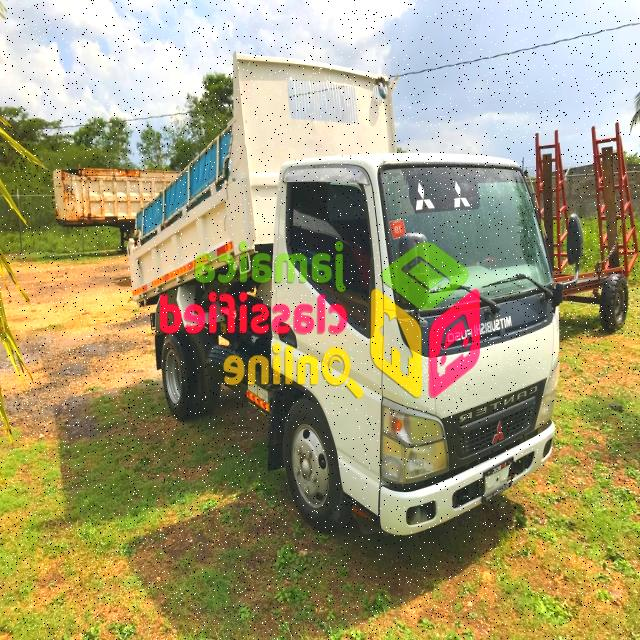truck: (127, 52, 583, 535)
